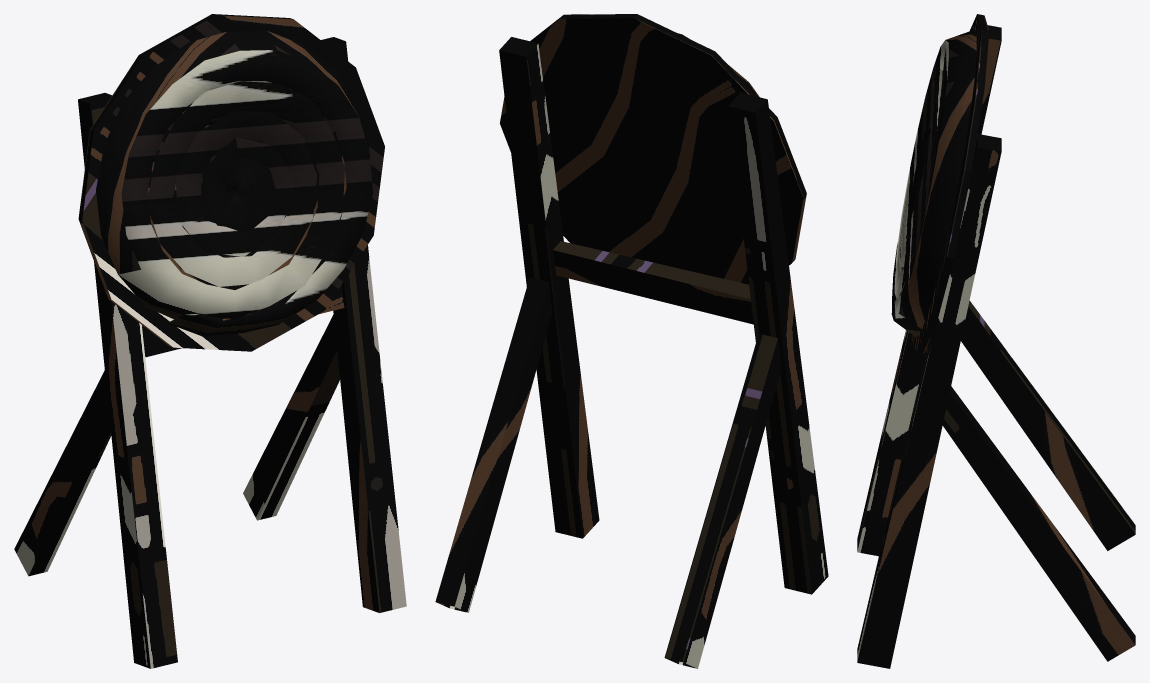
Rendered from target.fbx.
The picture shows the model from 3 angles, left to right: view 1: azimuth 30°, elevation 25°; view 2: azimuth 150°, elevation 25°; view 3: azimuth 270°, elevation 25°; orthographic projection.
Visible parts, largest first — view 1: target.001_Baked, target_Baked; view 2: target_Baked; view 3: target_Baked, target.001_Baked.
Boxes of the visible parts, x1,y1,x2,y2 form: target.001_Baked: [96, 31, 372, 336]; target_Baked: [14, 14, 406, 668]; target_Baked: [435, 14, 828, 668]; target_Baked: [857, 14, 1135, 668]; target.001_Baked: [891, 30, 976, 337].
Size of the model in its own units: 104 by 192 by 84.04.
